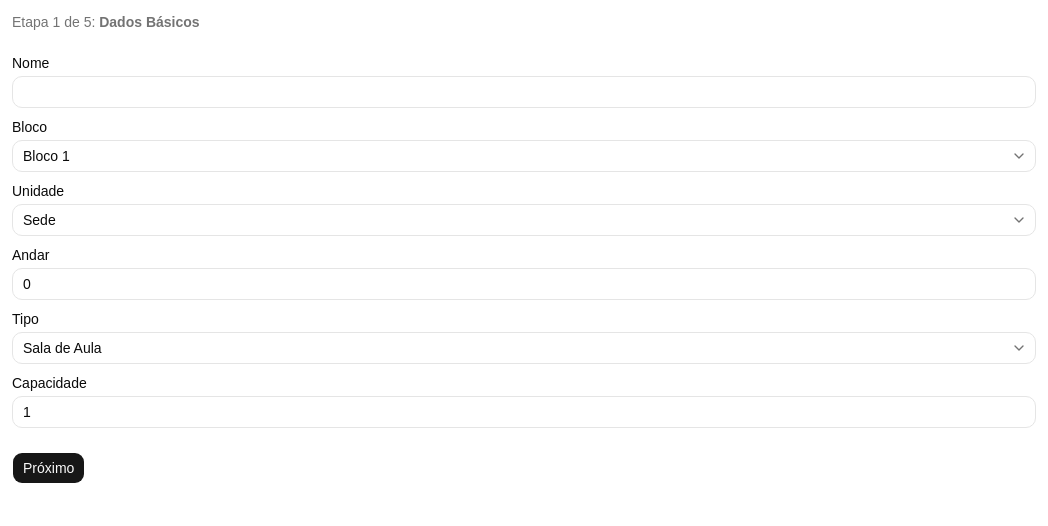
Scenario: FormAmbiente › não avança com a etapa atual inválida
The image size is (1048, 526).
Click the button "Próximo" at point(49, 468), box [12, 452, 85, 484]
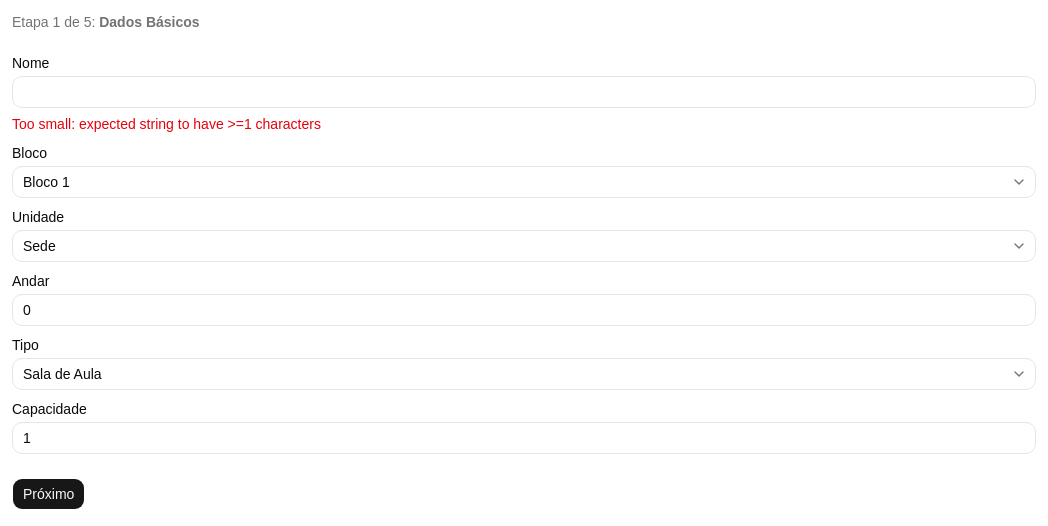
Now the message is shown, box [12, 116, 321, 132]
